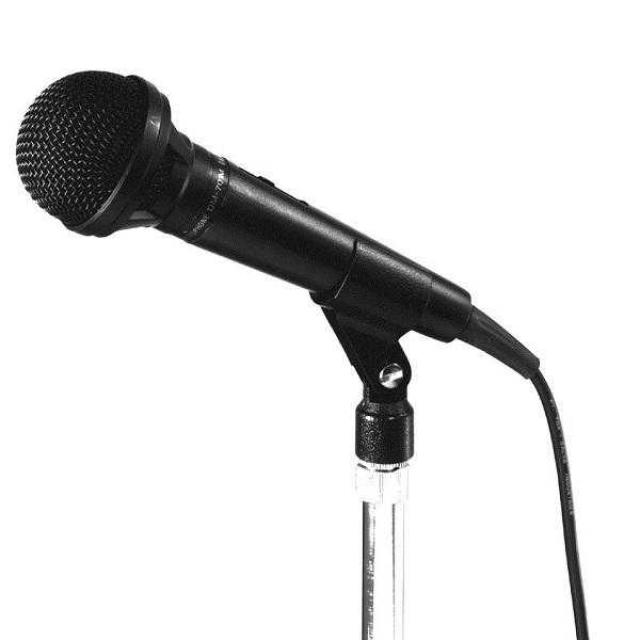microphone: (4, 60, 486, 322)
